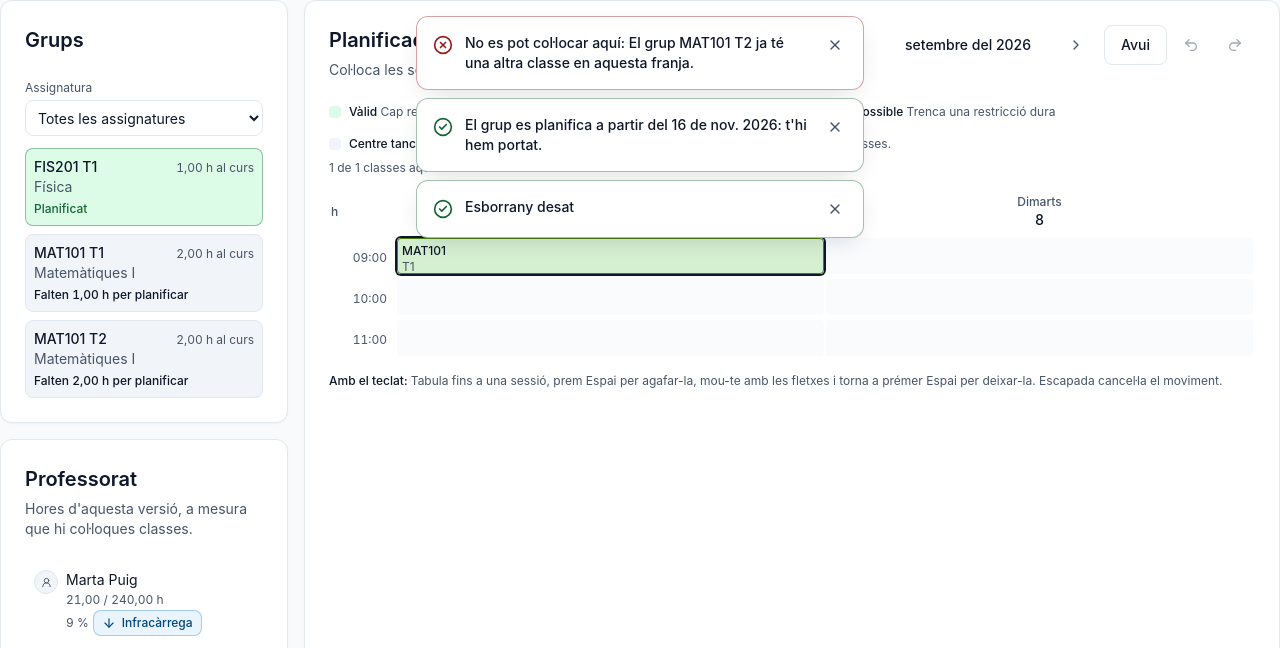
Test: the visual planner › undoes the last move by sending its inverse
The width and height of the screenshot is (1280, 648).
Expected: the button named "Desfés" is disabled, [1171,25,1211,65]
Click the button with aria-label "MAT101 T1, Dilluns de 09:00 a 10:00": (424, 251) [402,243,819,275]
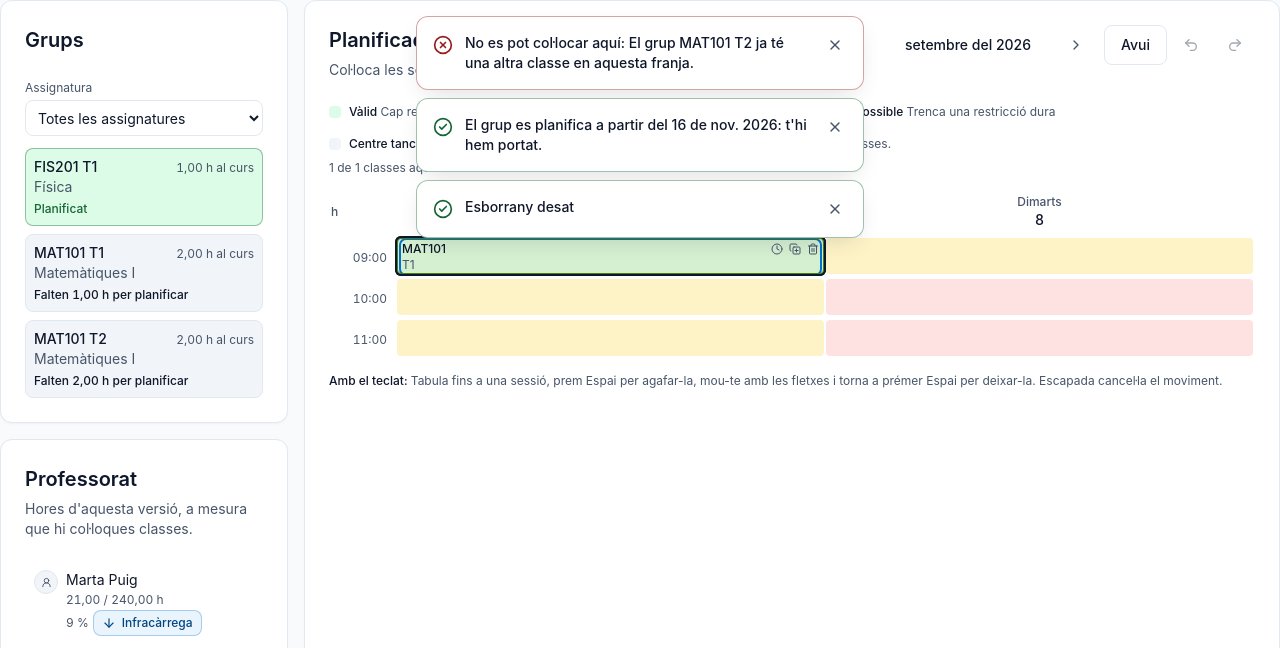
Click the button named "Mou MAT101 T1 a Dilluns a les 11:00": (610, 338) [397,320,824,356]
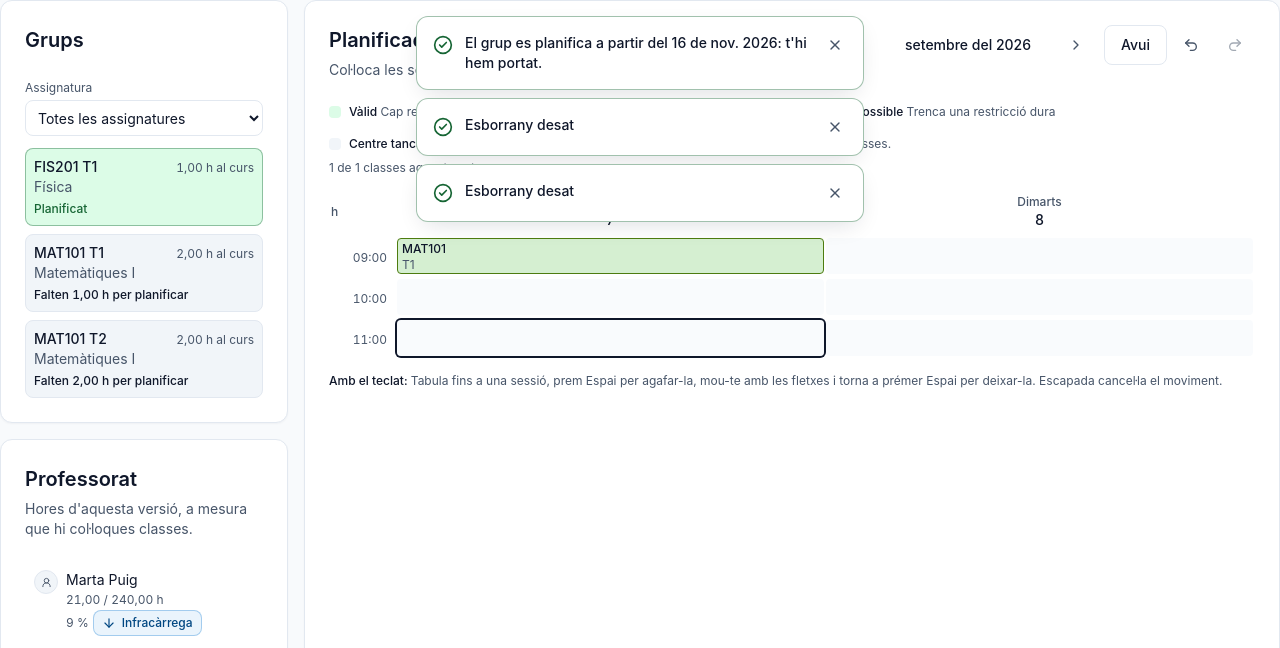
Expected: the button named "Desfés" is enabled
Click the button named "Desfés": (1191, 45) [1171,25,1211,65]
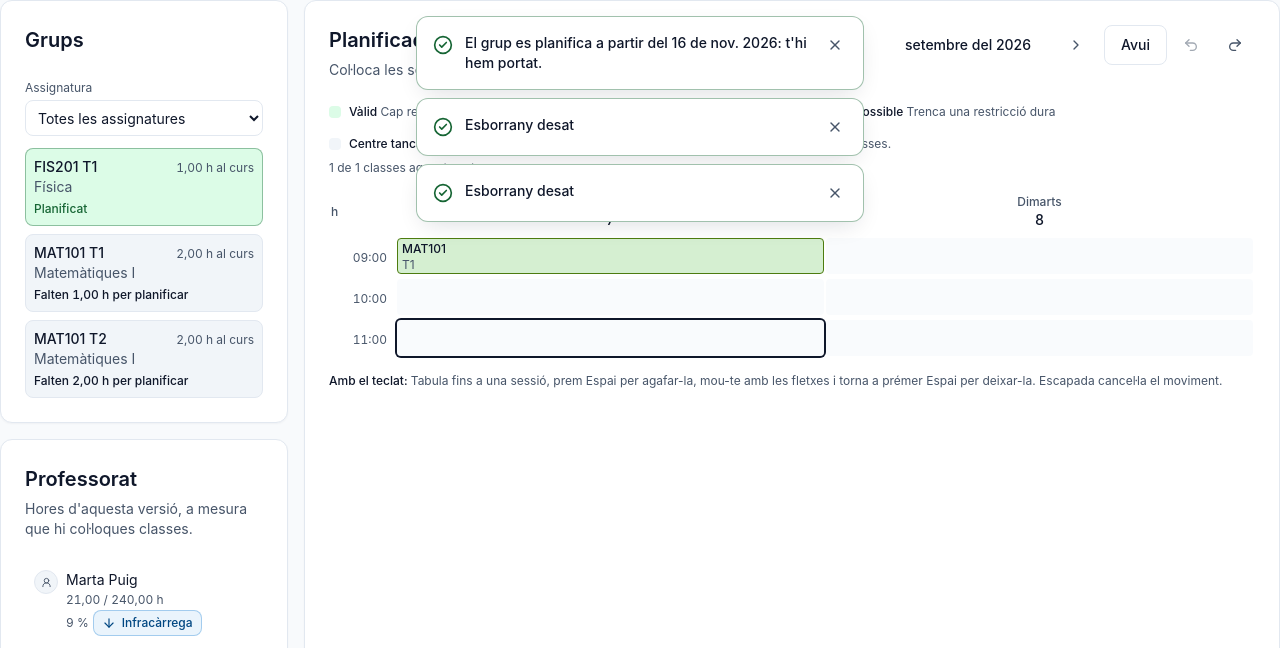
Expected: the button named "Refés" is enabled, [1215,25,1255,65]
